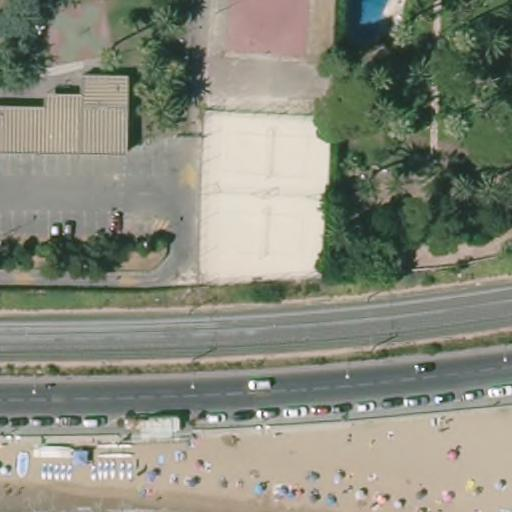pool: (344, 0, 399, 50)
